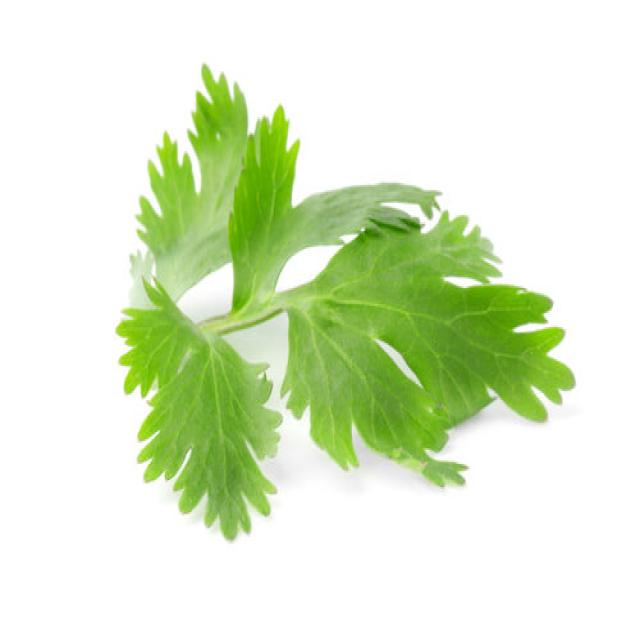Coriander Leaves: (115, 61, 576, 540)
